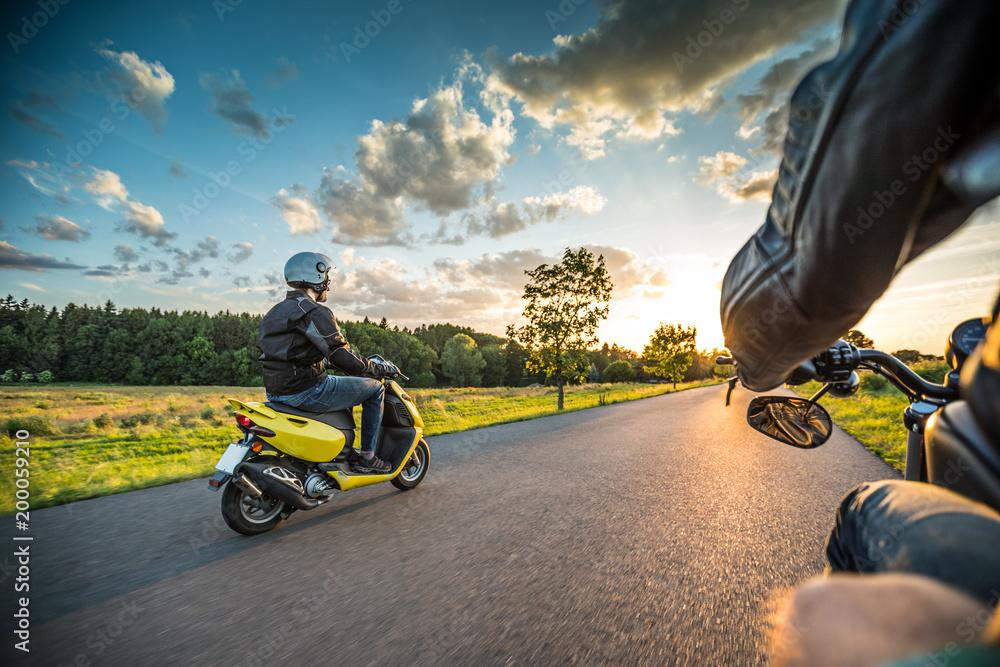helmet: (283, 251, 338, 303)
